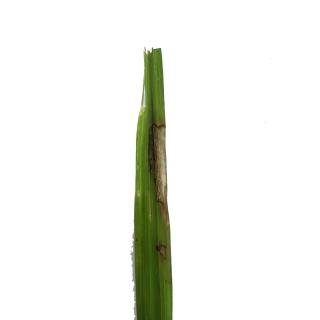Hawar-Daun: (151, 120, 172, 218), (155, 236, 171, 270)
